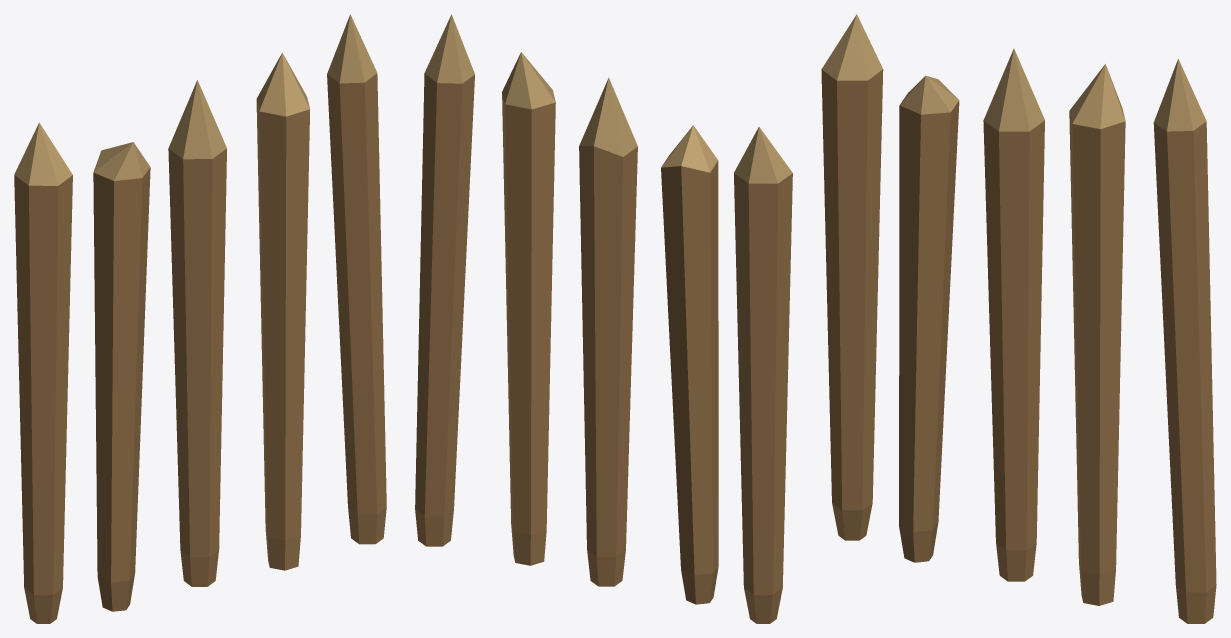
File: stakes01.fbx
3 renders of one model, left to right at view 1: azimuth 30°, elevation 25°; view 2: azimuth 150°, elevation 25°; view 3: azimuth 330°, elevation 25°, orthographic. The views are drawn at different scales.
Parts seen in each view (by area): view 1: stakes_01; view 2: stakes_01; view 3: stakes_01.
Part boxes in pixels (left/top/right/bottom): stakes_01: left=14, top=14, right=386, bottom=623; stakes_01: left=415, top=14, right=792, bottom=623; stakes_01: left=821, top=14, right=1216, bottom=623.
Size of the model in its own units: 1.85 by 0.2783 by 2.58.
